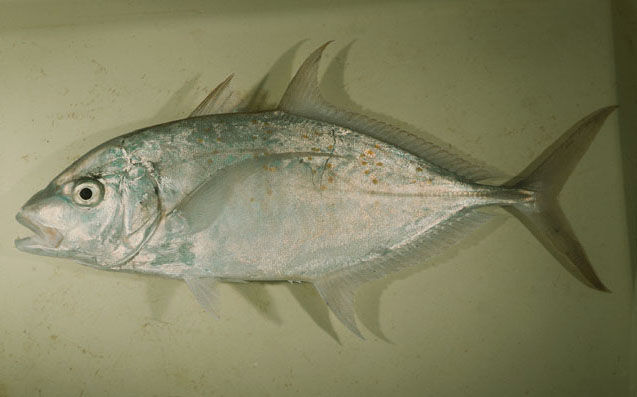fish: (15, 41, 618, 340)
